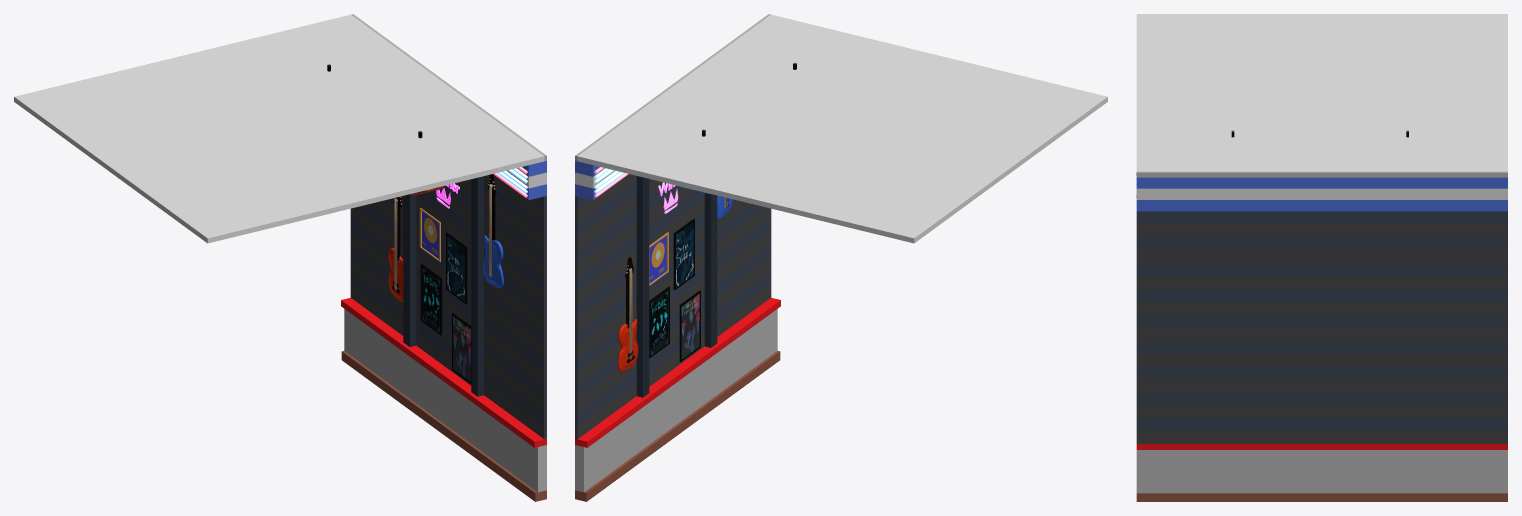
File: wall.fbx
The picture shows the model from 3 angles, left to right: view 1: azimuth 30°, elevation 25°; view 2: azimuth 150°, elevation 25°; view 3: azimuth 270°, elevation 25°; orthographic projection. The views are drawn at different scales.
Parts seen in each view (by area): view 1: Cube.005, Cube.009, Cube.011, Cube.010; view 2: Cube.005, Cube.009, Cube.010, Cube.011; view 3: Cube.005.
Part boxes in pixels (box(x1,y1,x2,y2)): Cube.005: box(14, 14, 546, 501); Cube.009: box(422, 267, 439, 332); Cube.011: box(447, 236, 464, 301); Cube.010: box(453, 316, 470, 381); Cube.005: box(575, 14, 1107, 501); Cube.009: box(650, 290, 668, 355); Cube.010: box(681, 294, 699, 359); Cube.011: box(676, 222, 693, 287); Cube.005: box(1136, 14, 1507, 501).
Size of the model in its own units: 2179 by 2144 by 2158.
